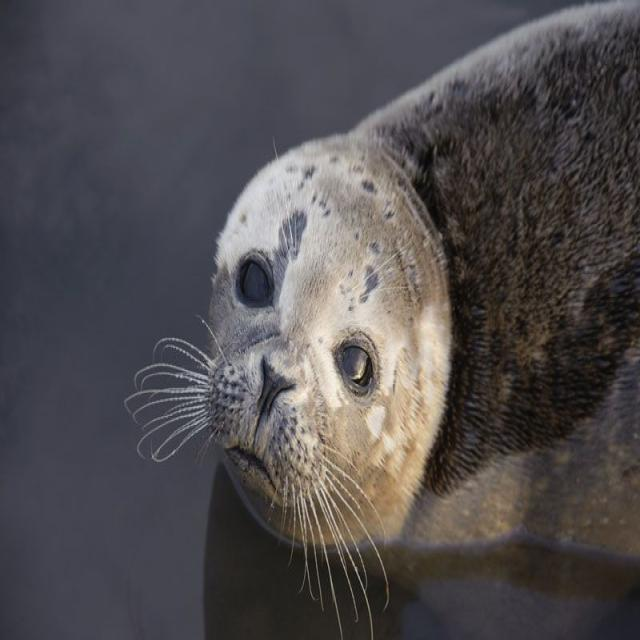WaterDog: (122, 119, 463, 640)
